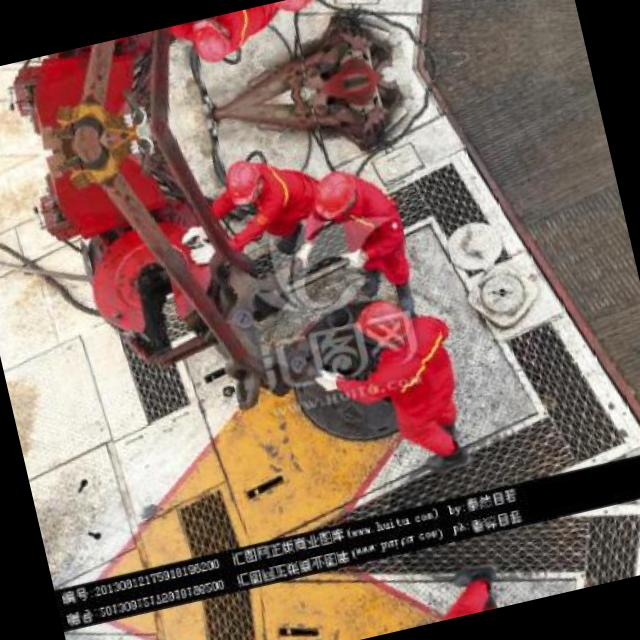helmet: (296, 161, 373, 235), (348, 293, 418, 356), (215, 153, 272, 209), (183, 13, 239, 68), (257, 0, 325, 24)
